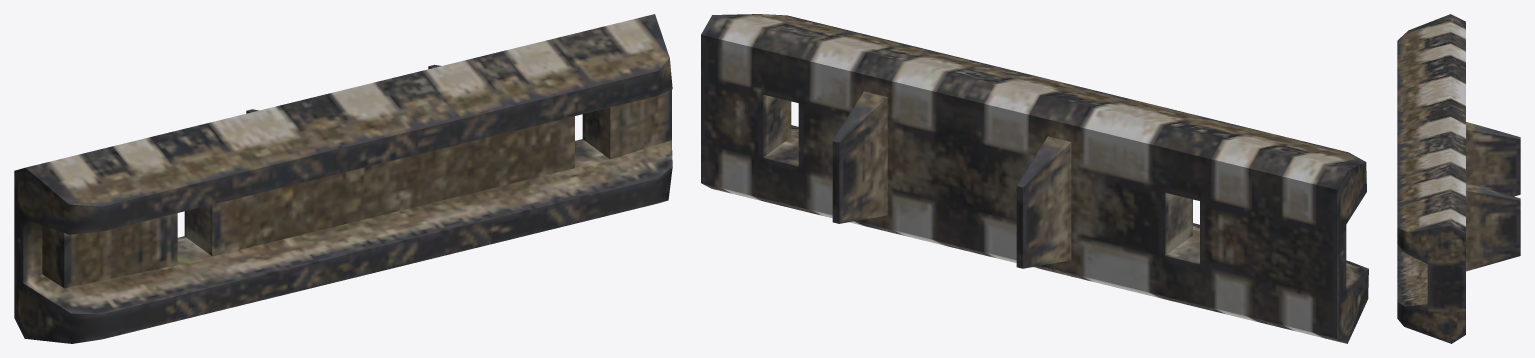
3 views of the same model, side by side, from view 1: azimuth 30°, elevation 25°; view 2: azimuth 150°, elevation 25°; view 3: azimuth 270°, elevation 25° (orthographic). The views are drawn at different scales.
Parts seen in each view (by area): view 1: set_0_group_0; view 2: set_0_group_0; view 3: set_0_group_0.
Part boxes in pixels (x1,y1,x2,y2): set_0_group_0: (14, 14, 672, 343); set_0_group_0: (701, 14, 1368, 343); set_0_group_0: (1397, 14, 1520, 343).
Bounding box in the file's own units: 0.8 × 0.2083 × 0.1966.
Materials: 1 (1 with a texture image).
